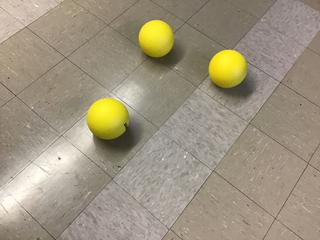power_cell: (86, 97, 130, 141), (207, 48, 251, 90), (137, 19, 181, 60)
